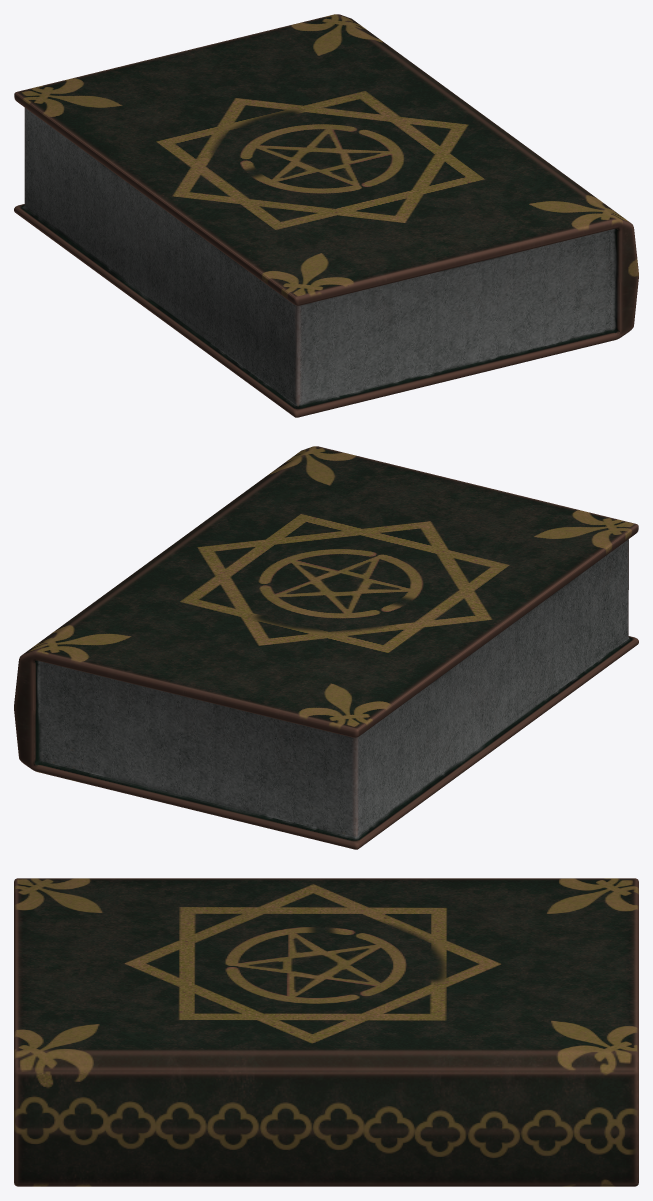
File: Grimorio.fbx
The picture shows the model from 3 angles, top to bottom: view 1: azimuth 30°, elevation 25°; view 2: azimuth 150°, elevation 25°; view 3: azimuth 270°, elevation 25°; orthographic projection. The views are drawn at different scales.
Parts seen in each view (by area): view 1: Grimorio; view 2: Grimorio; view 3: Grimorio.
Boxes of the visible parts, x1,y1,x2,y2 form: Grimorio: (14,14,638,417); Grimorio: (14,446,638,849); Grimorio: (14,878,638,1186).
Bounding box in the file's own units: 104 × 34.97 × 148.
1 material, 1 textured.
